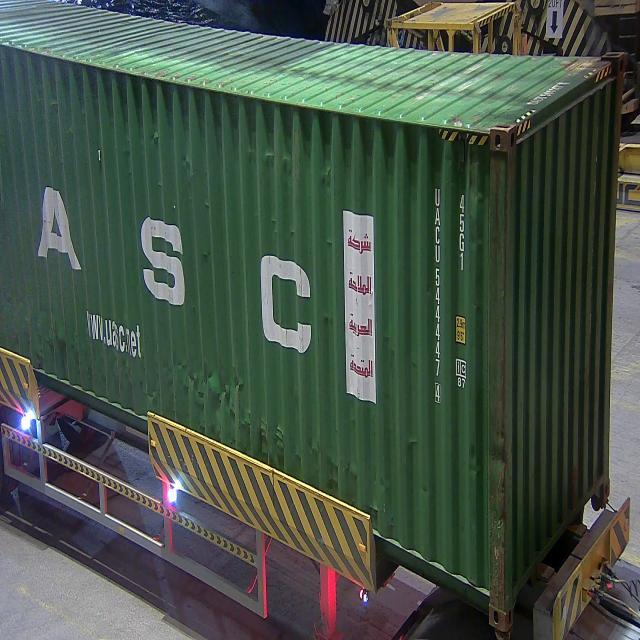dent: (175, 349, 289, 461)
